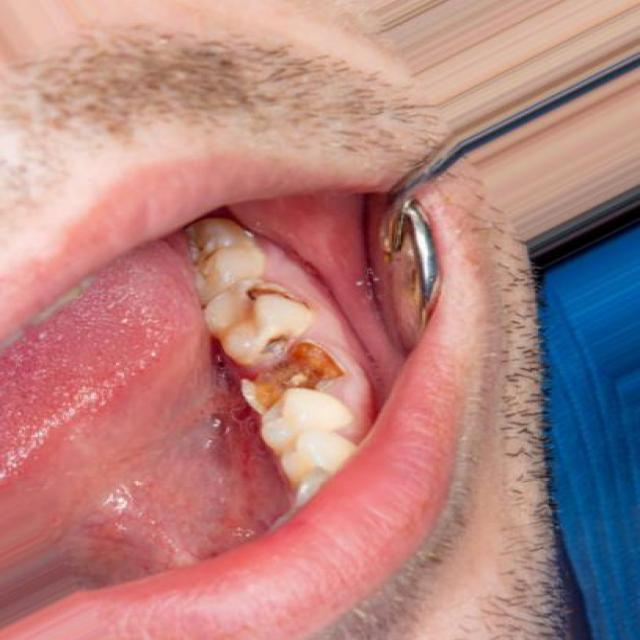caries: (228, 321, 363, 412), (216, 256, 318, 318)
